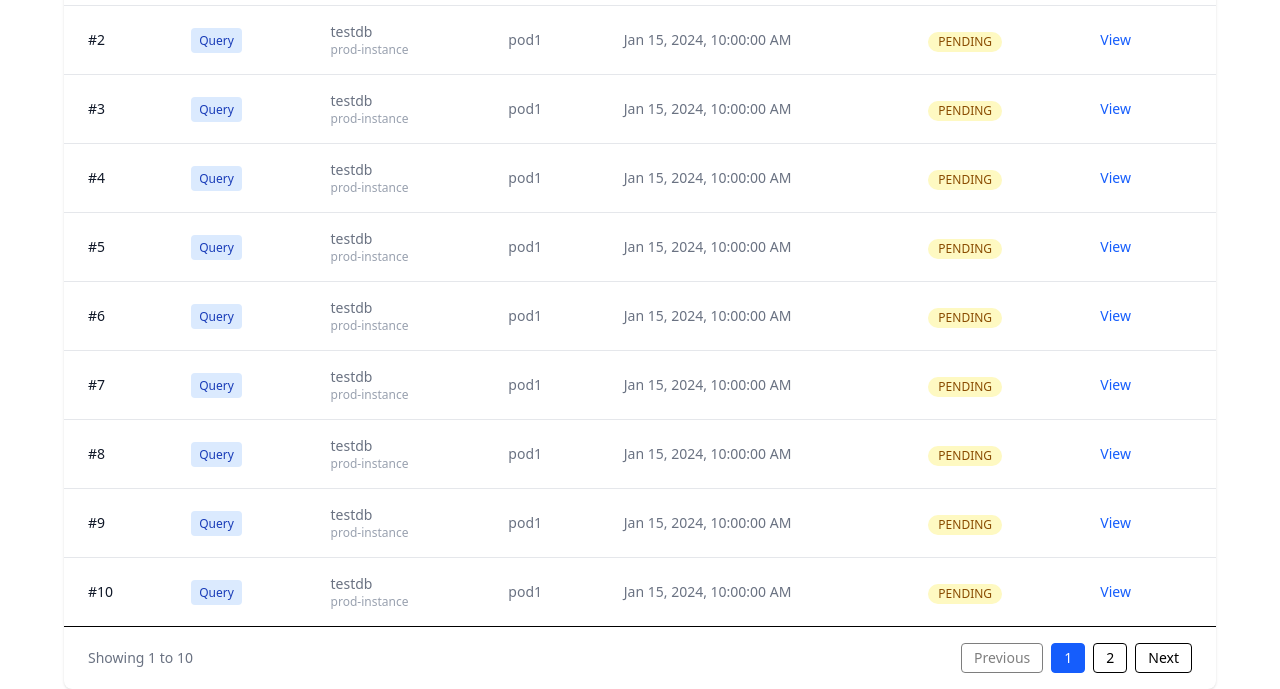
Test case: MySubmissions › should disable Next button on last page
The width and height of the screenshot is (1280, 689).
(page scrolled)
Click the button "Next" at (1164, 658), box [1135,643,1192,673]
(page scrolled)
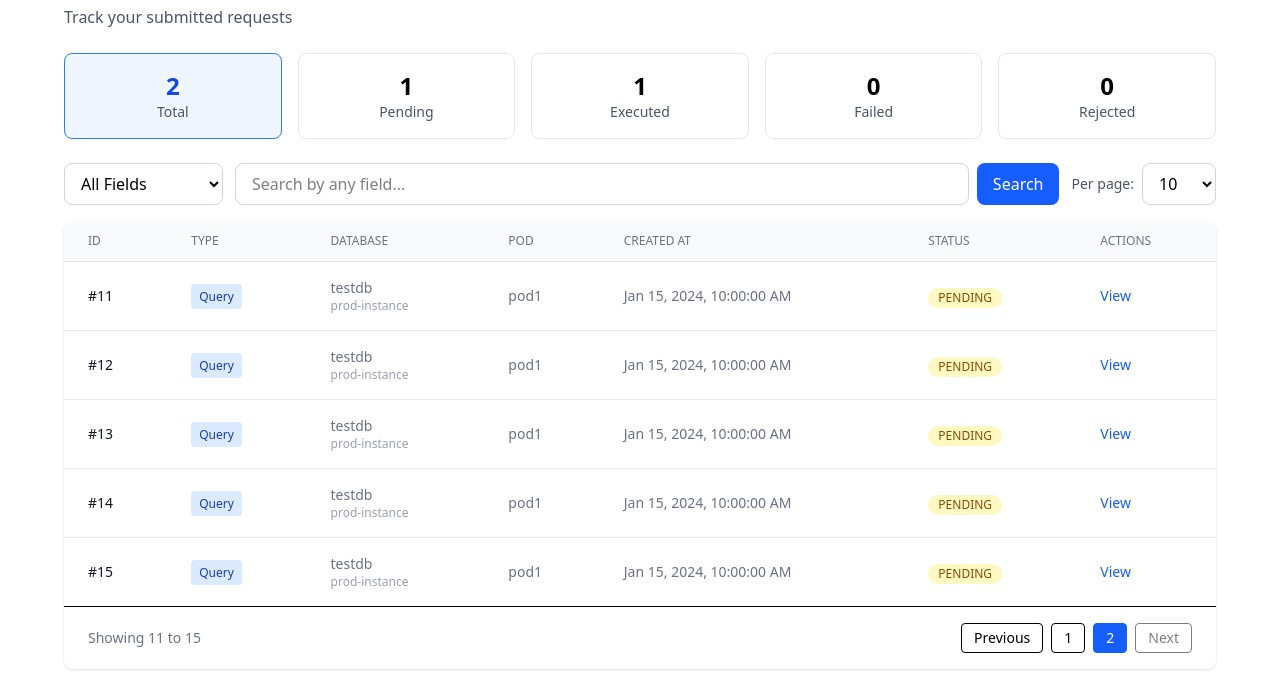
expect the button "Next" is disabled: met, box [1135,623,1192,653]
